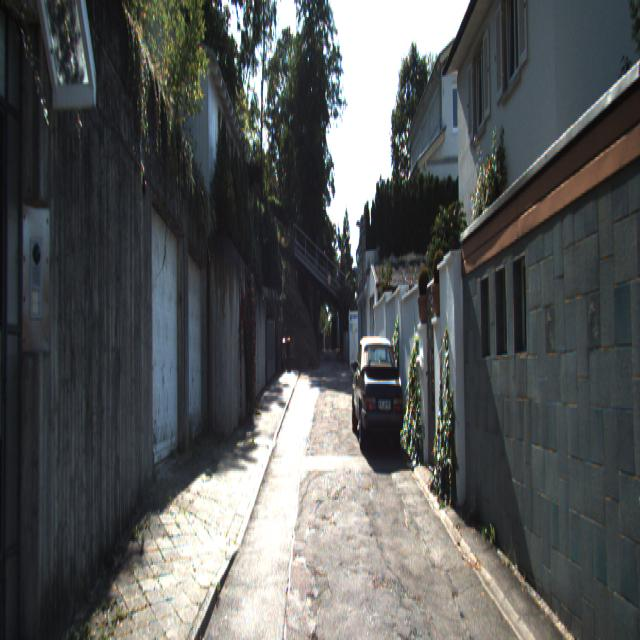Car: (350, 328, 406, 459)
